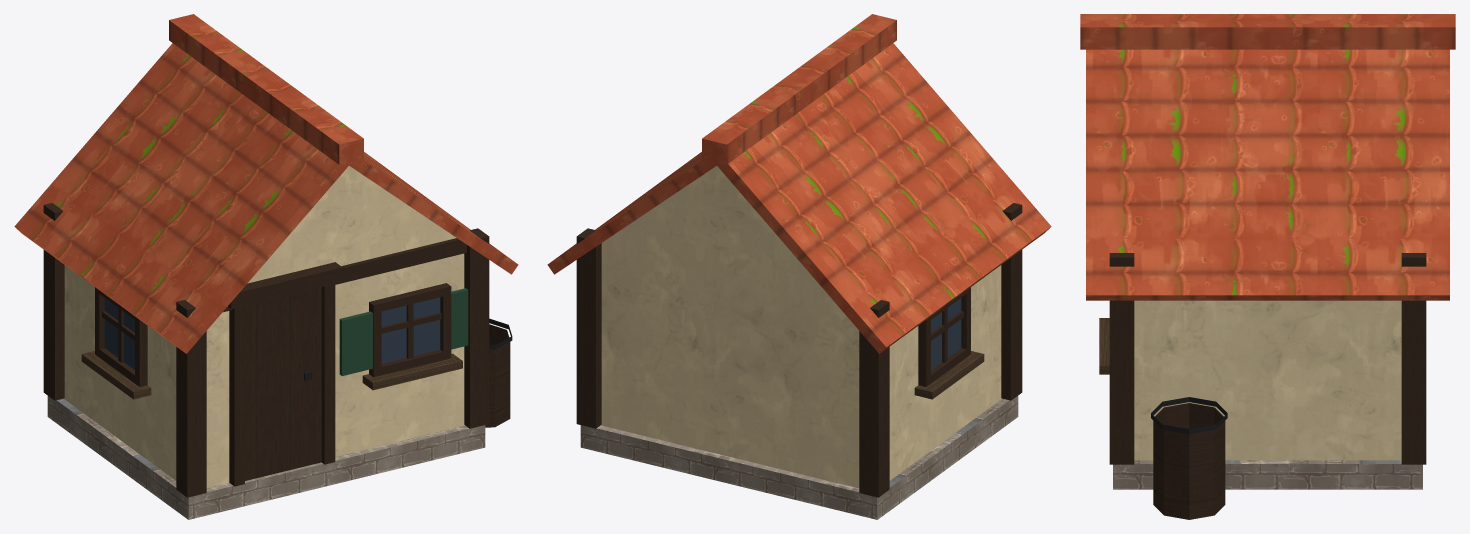
File: garden_shed.glb
3 views of the same model, side by side, from view 1: azimuth 30°, elevation 25°; view 2: azimuth 150°, elevation 25°; view 3: azimuth 270°, elevation 25° (orthographic). The views are drawn at different scales.
Parts seen in each view (by area): view 1: garden_shed; view 2: garden_shed; view 3: garden_shed.
Boxes of the visible parts, bbox=[...] form: garden_shed: bbox=[14, 14, 518, 519]; garden_shed: bbox=[547, 14, 1051, 519]; garden_shed: bbox=[1080, 14, 1455, 519].
Bounding box in the file's own units: 4.26 × 3.82 × 3.34.
Materials: 7 (4 with a texture image).
